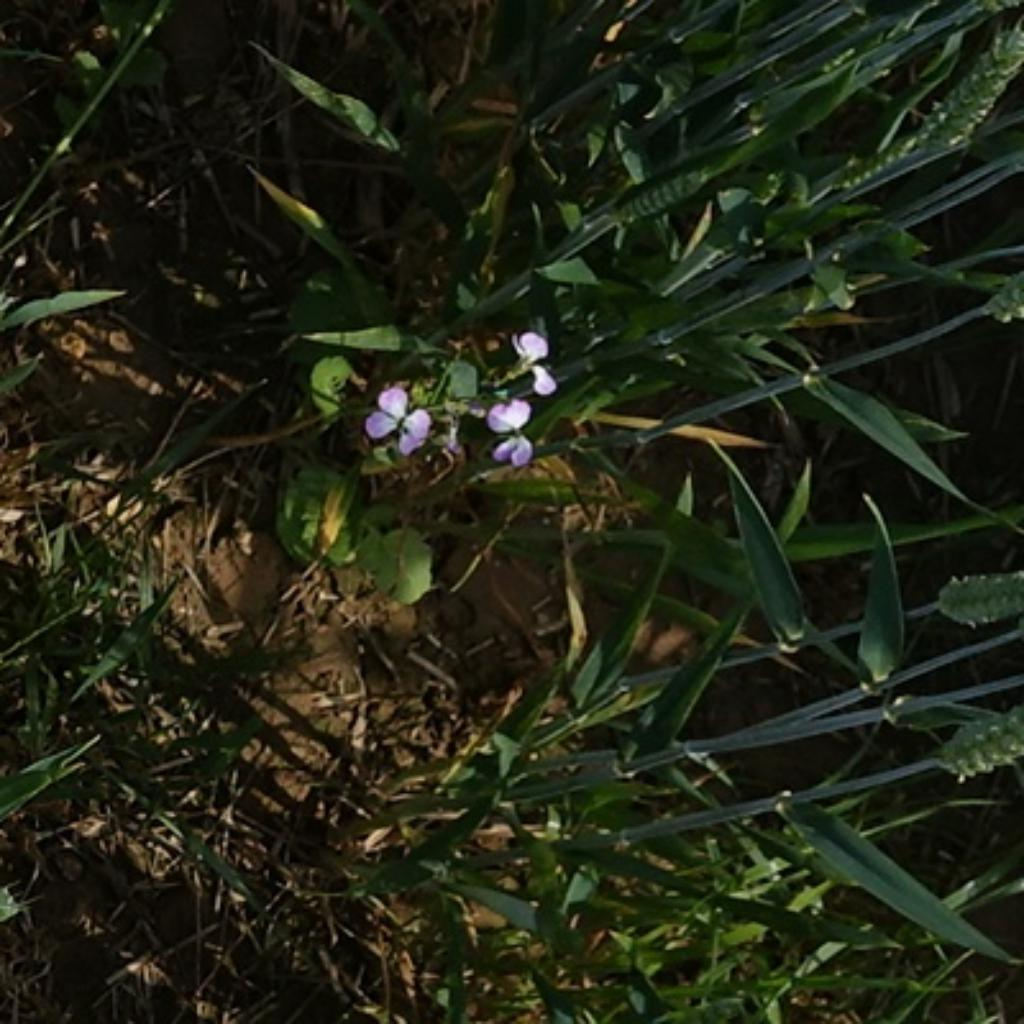0-0: (942, 16, 1023, 158), (605, 157, 727, 233), (819, 125, 939, 197), (937, 704, 1024, 791), (934, 563, 1024, 624)
